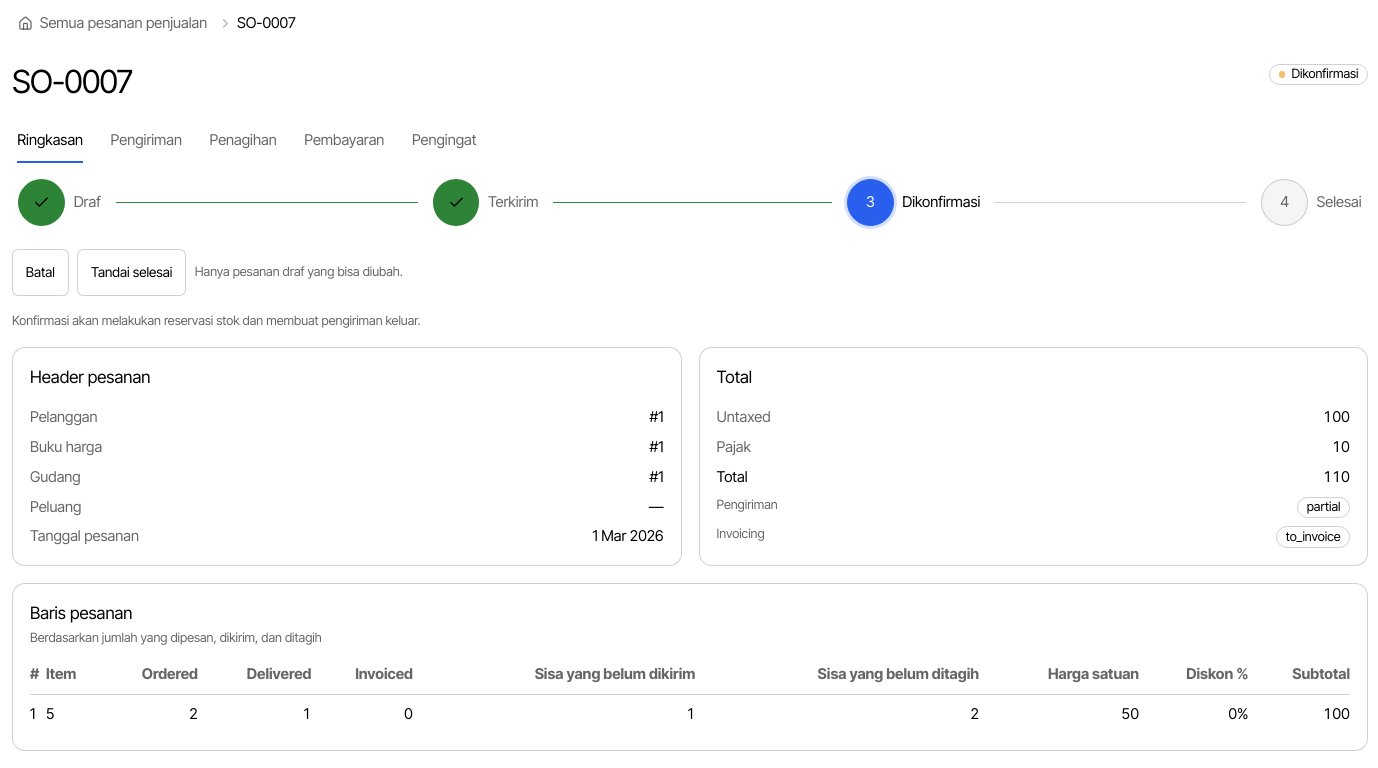
Test: SaleOrderDetail extra2 › shows the empty reminder state when no actions exist
The image size is (1378, 768).
Click the tab "Pengingat": (444, 141) [411,117,477,164]
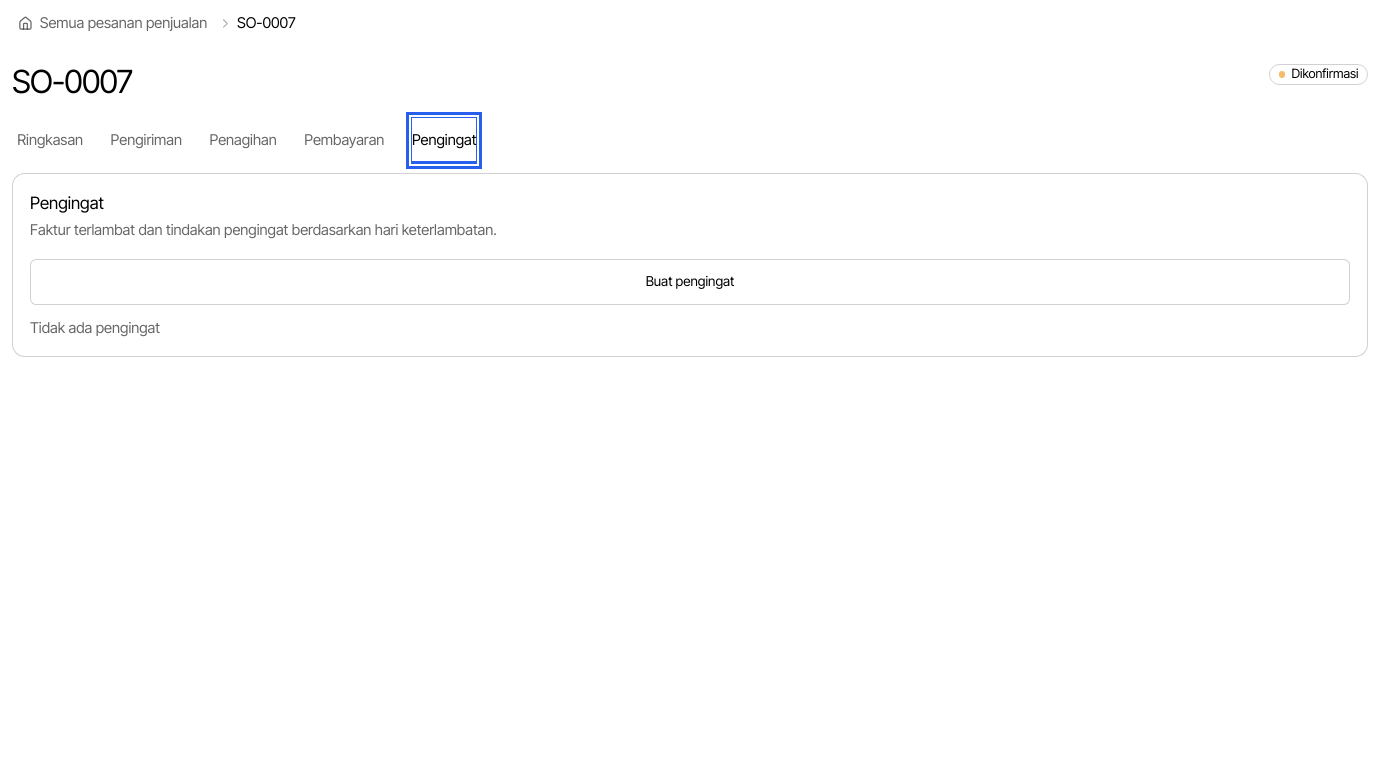
Result: the text "Tidak ada pengingat" is shown at [30,319,160,337]
